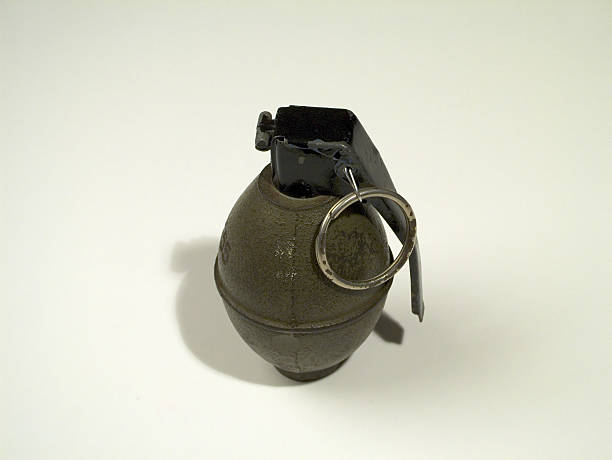e1: (209, 105, 427, 382)
